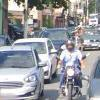cars: (0, 45, 48, 100)
